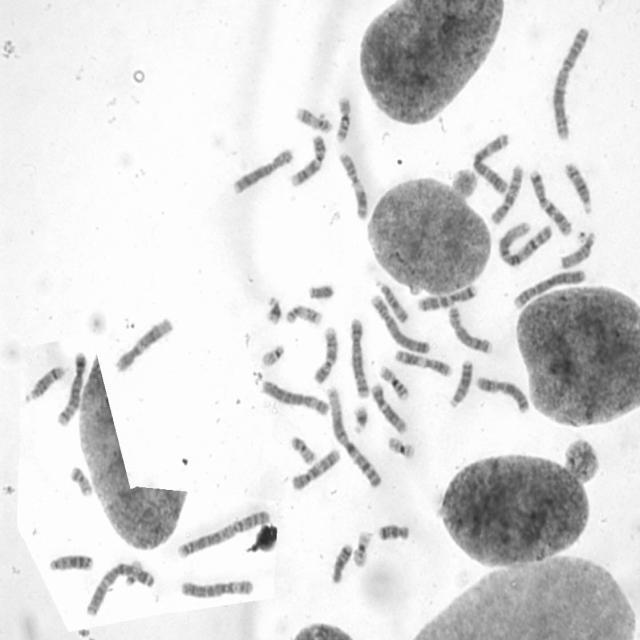A1: (327, 387, 383, 489), (497, 221, 555, 268)
A2: (174, 508, 272, 560), (549, 24, 591, 145)
A3: (85, 560, 157, 619), (471, 132, 512, 196)
B4: (371, 294, 431, 355), (511, 268, 586, 310)
B5: (55, 351, 88, 427), (348, 317, 370, 398)
C10: (289, 448, 341, 492), (490, 163, 525, 225)
C11: (338, 150, 370, 222), (393, 349, 452, 377)
C12: (114, 316, 176, 374), (371, 383, 409, 435)
C6: (260, 380, 328, 415), (179, 579, 256, 600)
C7: (527, 168, 573, 236), (417, 282, 479, 314)
C8: (232, 147, 294, 195), (447, 306, 495, 354)
C9: (288, 131, 326, 189), (313, 326, 337, 383)
D13: (448, 358, 474, 411), (46, 548, 94, 573)
D14: (23, 364, 66, 403), (563, 161, 594, 215)
D15: (374, 279, 410, 325), (559, 230, 597, 272)
E16: (376, 364, 409, 401), (336, 96, 352, 142)
E17: (295, 106, 333, 134), (286, 304, 323, 327)
E18: (330, 542, 352, 587), (378, 522, 411, 541)
F19: (352, 530, 374, 567), (386, 435, 415, 460)
F20: (289, 433, 316, 465), (70, 466, 93, 499)
G21: (350, 403, 370, 436), (264, 296, 284, 328)
G22: (122, 558, 144, 588), (259, 344, 287, 366)
X: (476, 376, 530, 414)
Y: (308, 286, 337, 302)
